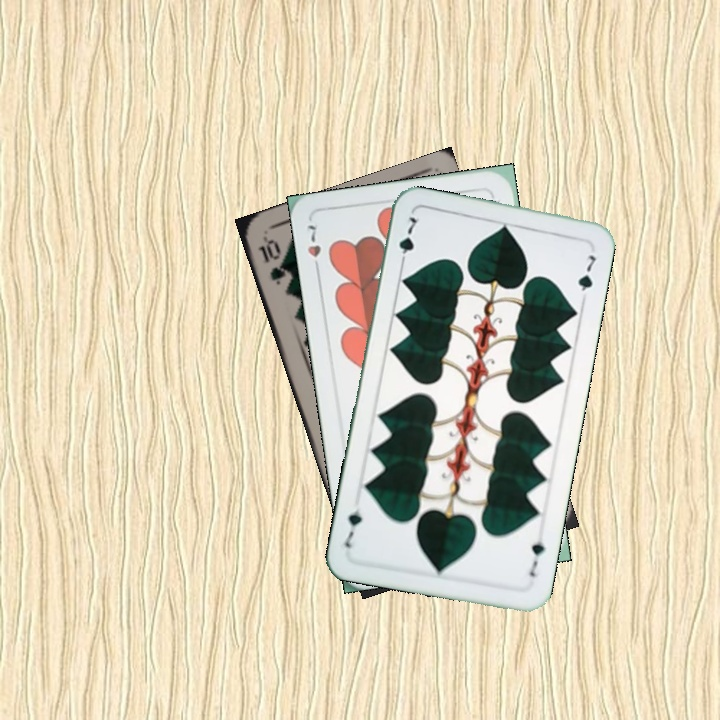G10: (254, 235, 288, 288)
G7: (395, 212, 421, 269), (525, 530, 547, 580)
H7: (303, 220, 324, 277)
